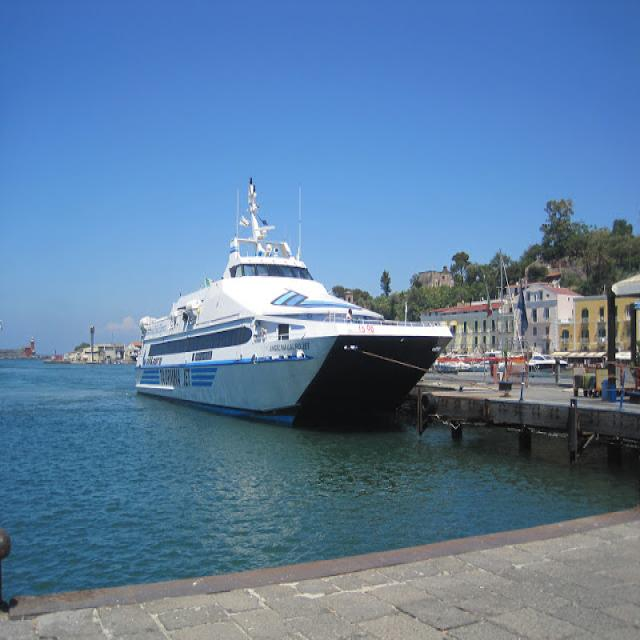houseboat: (127, 198, 451, 424)
